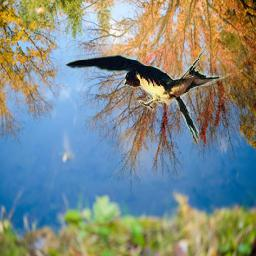Swallow: (62, 46, 249, 144)
